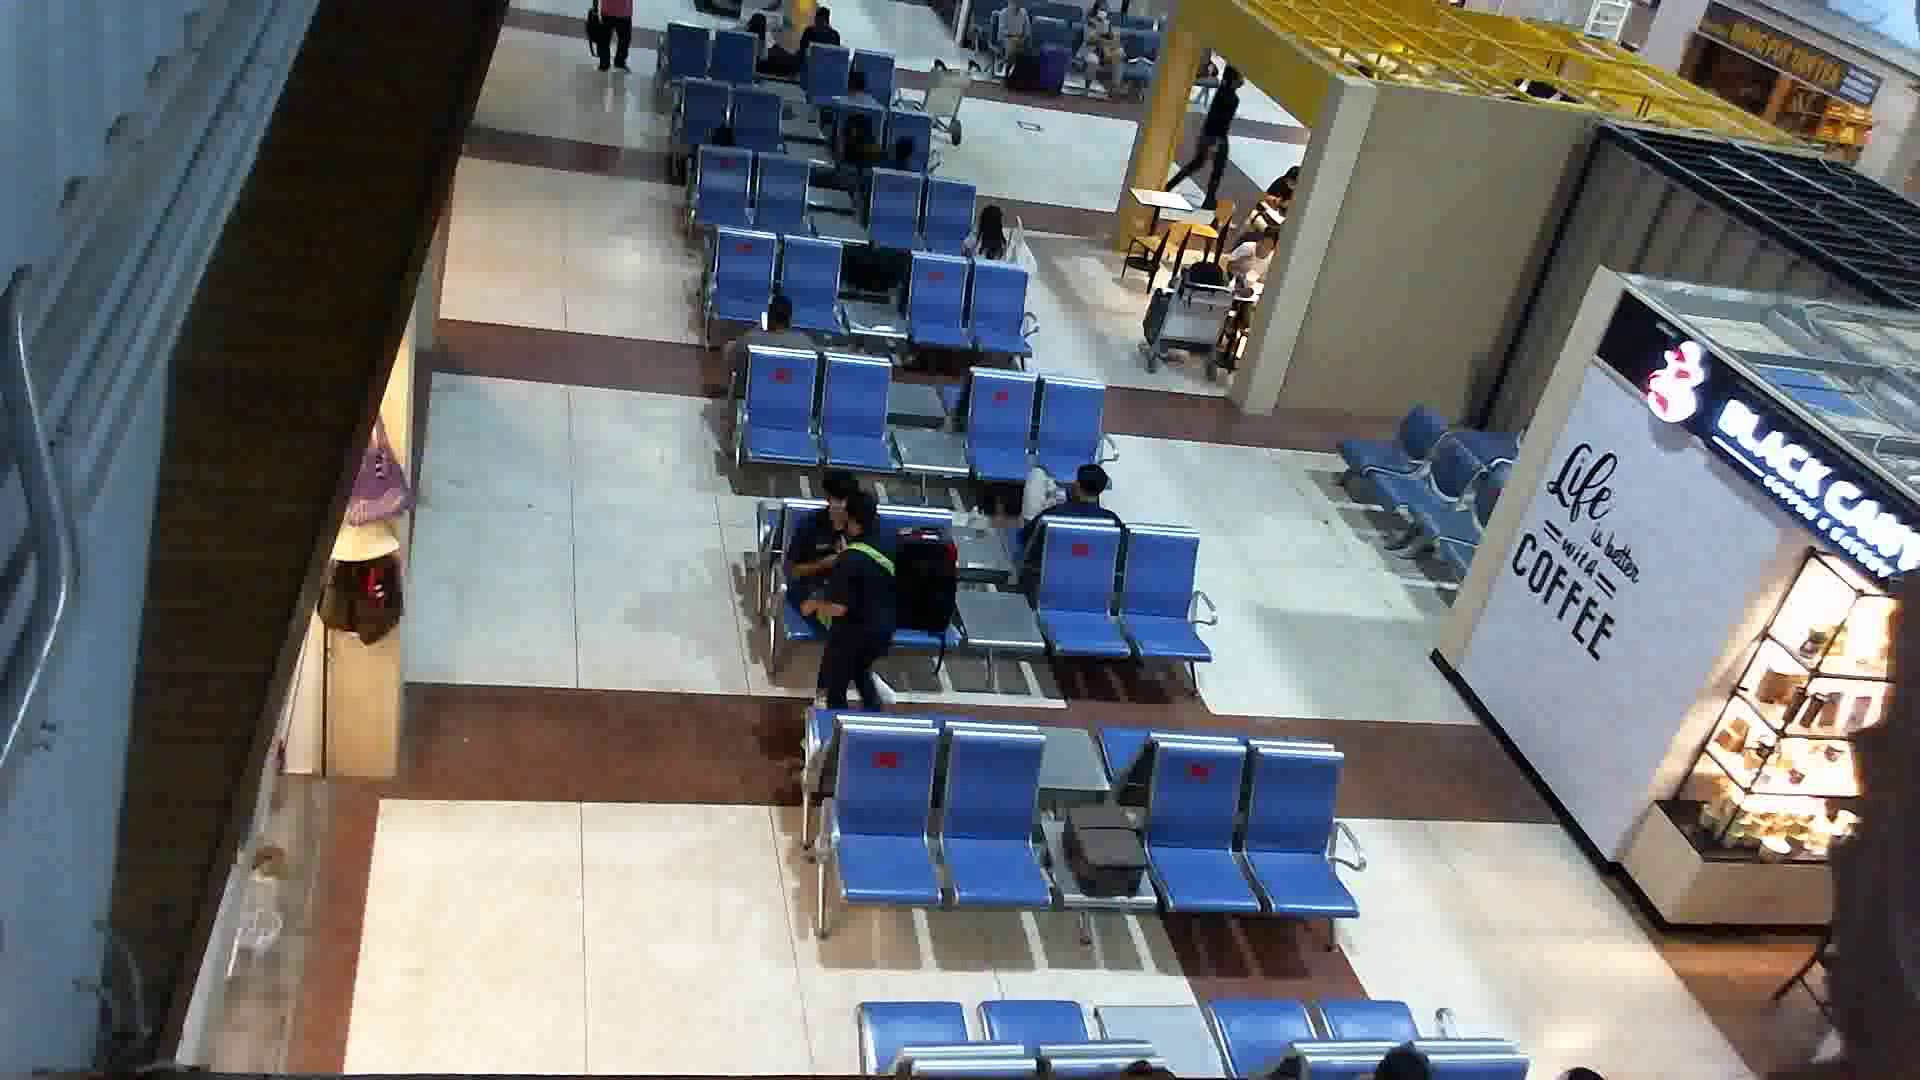luggage: (1055, 799, 1154, 918), (883, 523, 977, 637)
people: (786, 462, 916, 744), (797, 485, 909, 737), (1010, 460, 1136, 554), (1177, 52, 1251, 207), (955, 204, 1020, 269)
